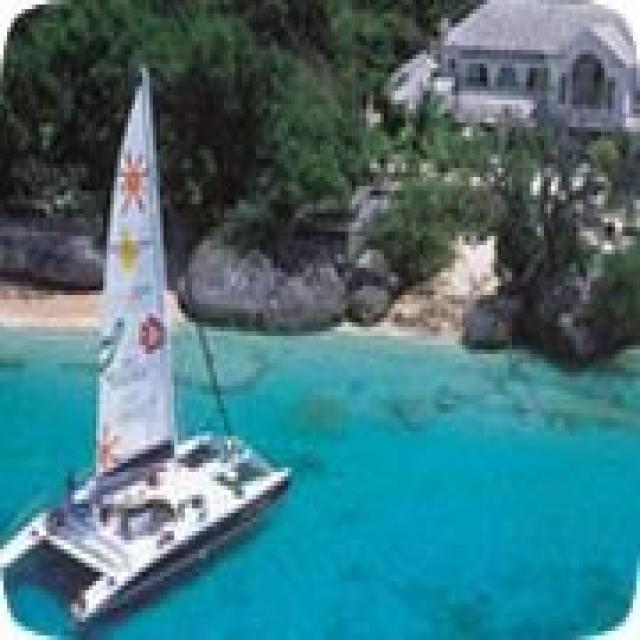Ship: (13, 65, 300, 640)
